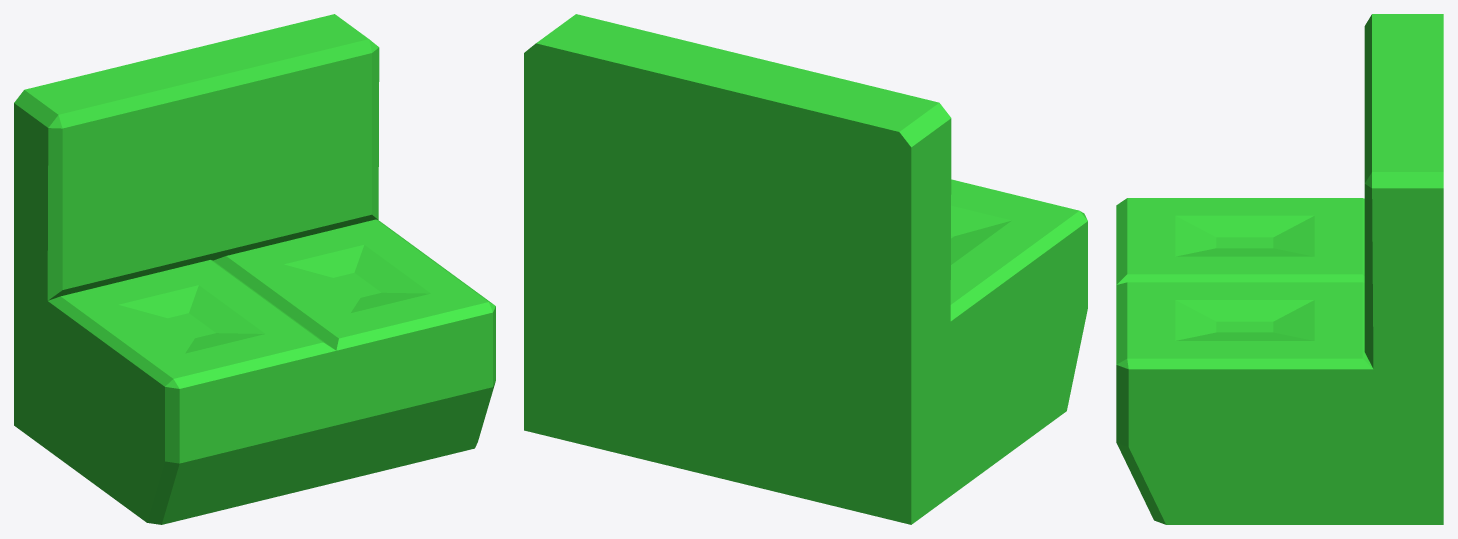
The model's file is Chair_10_Straight.fbx.
3 renders of one model, left to right at view 1: azimuth 30°, elevation 25°; view 2: azimuth 150°, elevation 25°; view 3: azimuth 270°, elevation 25°, orthographic. The views are drawn at different scales.
Parts seen in each view (by area): view 1: Chair_10_Straight; view 2: Chair_10_Straight; view 3: Chair_10_Straight.
Boxes of the visible parts, <box> form: Chair_10_Straight: <box>14,14,495,524</box>; Chair_10_Straight: <box>524,14,1087,524</box>; Chair_10_Straight: <box>1116,14,1443,524</box>.
Size of the model in its own units: 91.44 by 87.99 by 75.04.
